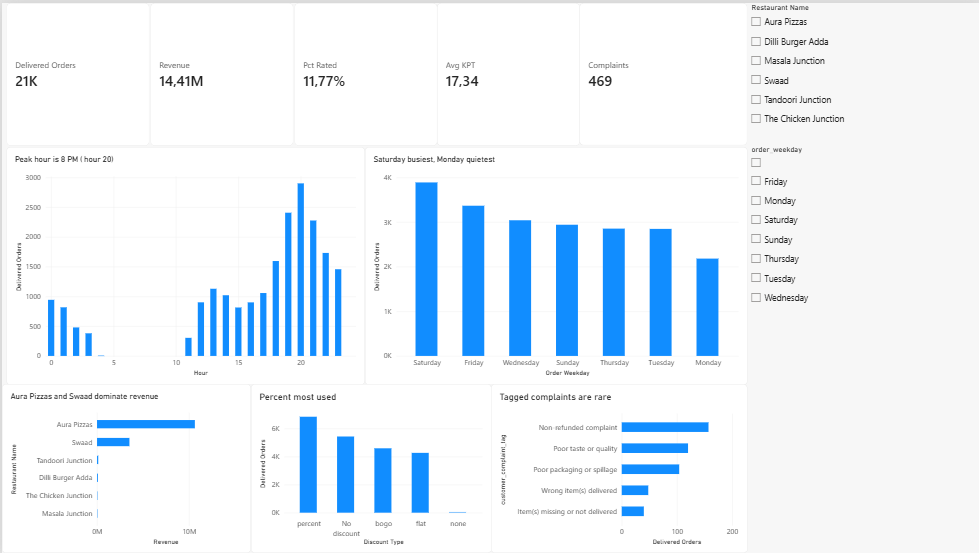

Layout of this report page (visuals, bound fields, positions):
{"tool":"powerbi","page":{"name":"Delivery Overview","canvas":[1920,1080],"ordinal":0},"visuals":[{"type":"cardVisual","fields":{"Data":["orders.Delivered Orders"]},"box":[10,0,280,280],"z":0},{"type":"cardVisual","fields":{"Data":["orders.Revenue"]},"box":[292,0,280,280],"z":1000},{"type":"cardVisual","fields":{"Data":["orders.Pct Rated"]},"box":[572.6,0,280,280],"z":2000},{"type":"cardVisual","fields":{"Data":["orders.Avg KPT"]},"box":[853.2,0,280,280],"z":4000},{"type":"clusteredColumnChart","title":"Peak hour is 8 PM ( hour 20)","fields":{"Category":["orders.order_hour"],"Y":["orders.Delivered Orders"]},"box":[9.5,281,702.4,466.7],"z":5000},{"type":"clusteredColumnChart","title":"Saturday busiest, Monday quietest","fields":{"Category":["orders.order_weekday"],"Y":["orders.Delivered Orders"]},"box":[711.9,281,750,466.7],"z":6000},{"type":"clusteredBarChart","title":"Aura Pizzas and Swaad dominate revenue","fields":{"Category":["orders.restaurant_name"],"Y":["orders.Revenue"]},"box":[0,747.6,488.1,333.3],"z":7000},{"type":"clusteredColumnChart","title":"Percent most used","fields":{"Category":["orders.discount_type"],"Y":["orders.Delivered Orders"]},"box":[488.1,747.6,471.4,333.3],"z":8000},{"type":"clusteredBarChart","title":"Tagged complaints are rare","fields":{"Category":["orders.customer_complaint_tag"],"Y":["orders.Delivered Orders"]},"box":[959.5,747.6,502.4,333.3],"z":9000},{"type":"slicer","fields":{"Values":["orders.restaurant_name"]},"box":[1461.8,0,376.5,282.4],"z":10000},{"type":"slicer","fields":{"Values":["orders.order_weekday"]},"box":[1461.8,279.4,376.5,470.6],"z":10001},{"type":"cardVisual","fields":{"Data":["orders.Complaints"]},"box":[1132.4,0,329.4,279.4],"z":10002}]}

Visuals, with their boxes in screenshot pixels (x1, y1, x2, y2), scaled from the page's 1920x1080 canvas onto the 979x553 screenshot:
cardVisual - orders.Delivered Orders: detection(5, 0, 148, 143)
cardVisual - orders.Revenue: detection(149, 0, 292, 143)
cardVisual - orders.Pct Rated: detection(292, 0, 435, 143)
cardVisual - orders.Avg KPT: detection(435, 0, 578, 143)
"Peak hour is 8 PM ( hour 20)" clusteredColumnChart: detection(5, 144, 363, 383)
"Saturday busiest, Monday quietest" clusteredColumnChart: detection(363, 144, 745, 383)
"Aura Pizzas and Swaad dominate revenue" clusteredBarChart: detection(0, 383, 249, 552)
"Percent most used" clusteredColumnChart: detection(249, 383, 489, 552)
"Tagged complaints are rare" clusteredBarChart: detection(489, 383, 745, 552)
slicer - orders.restaurant_name: detection(745, 0, 937, 145)
slicer - orders.order_weekday: detection(745, 143, 937, 384)
cardVisual - orders.Complaints: detection(577, 0, 745, 143)
